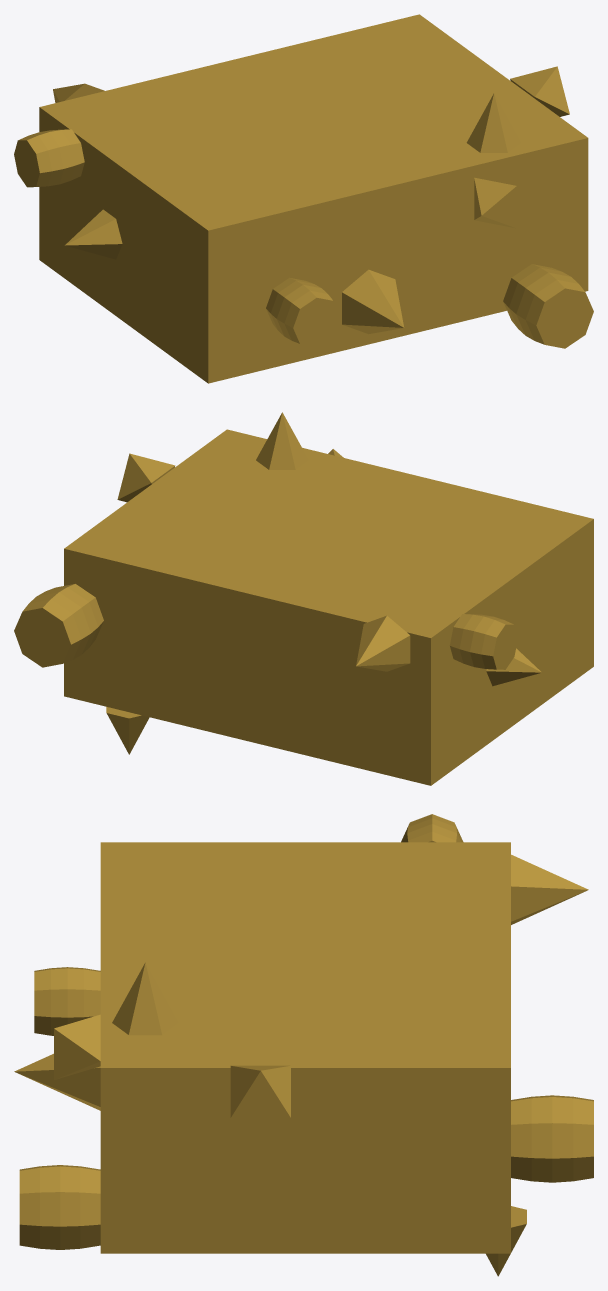
3 views of the same model, one above another, from view 1: azimuth 30°, elevation 25°; view 2: azimuth 150°, elevation 25°; view 3: azimuth 270°, elevation 25° (orthographic). The views are drawn at different scales.
Parts seen in each view (by area): view 1: object04_low; view 2: object04_low; view 3: object04_low.
Part boxes in pixels (<box>): object04_low: <box>14,14,593,383</box>; object04_low: <box>14,412,593,785</box>; object04_low: <box>14,814,593,1276</box>.
Size of the model in its own units: 3.15 by 1.65 by 2.83.
